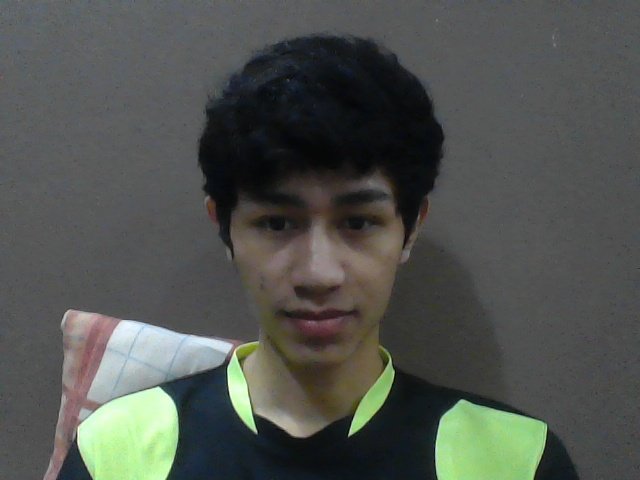face: (193, 129, 441, 377)
